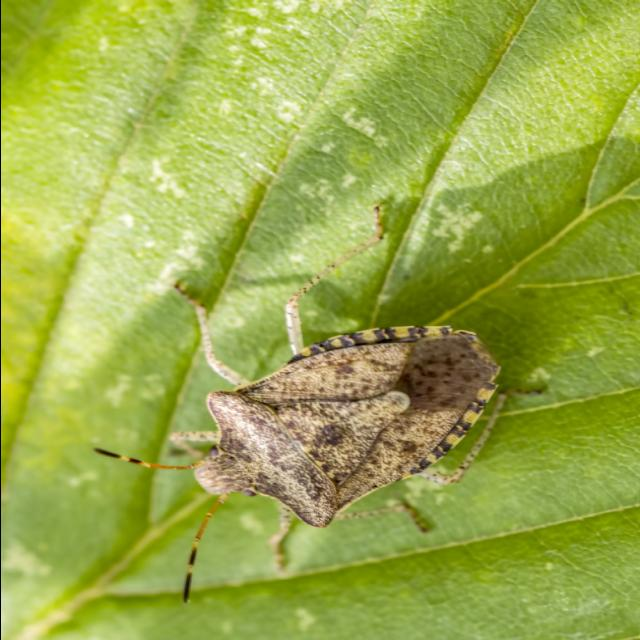stink_bug: (89, 205, 562, 606)
